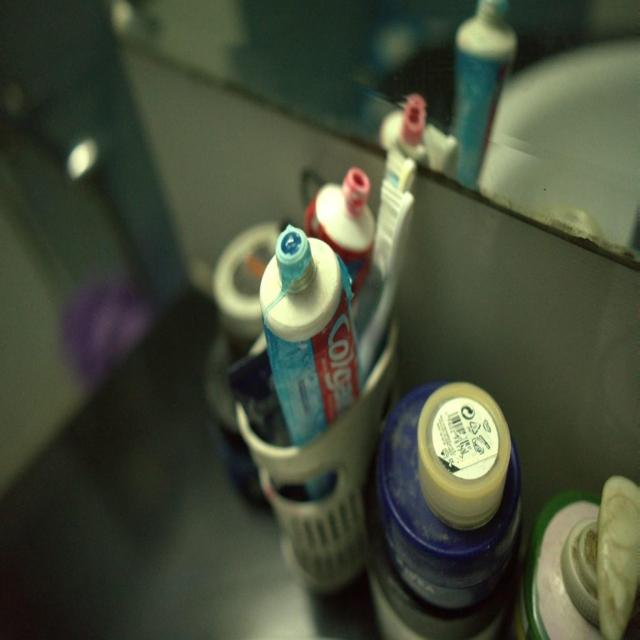Toothpaste: (262, 153, 369, 561)
